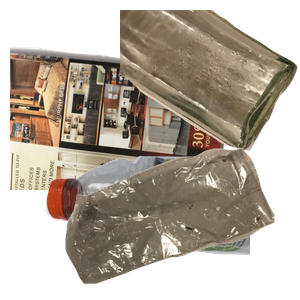glass: (120, 10, 300, 153)
paper: (10, 44, 232, 224)
plastic: (43, 152, 283, 300)
trash: (63, 145, 300, 300)
